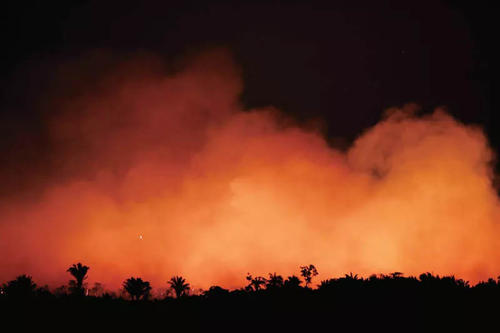smoke: (19, 112, 484, 272)
